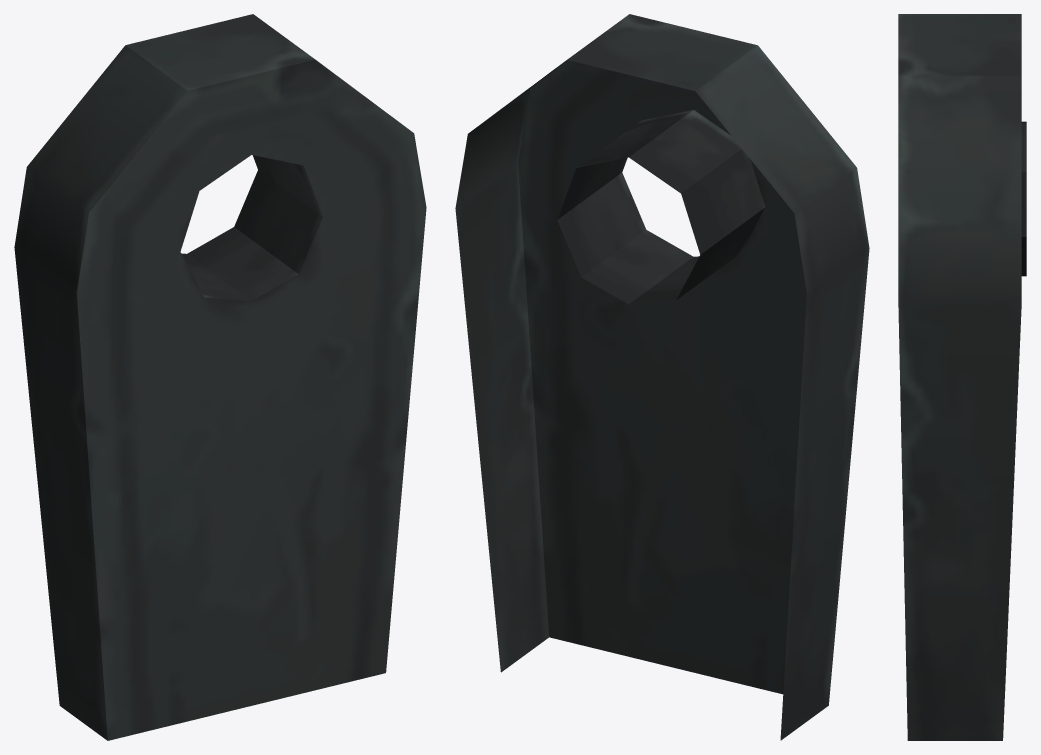
The model's file is yw_shanlin_tombstone_22.FBX.
3 renders of one model, left to right at view 1: azimuth 30°, elevation 25°; view 2: azimuth 150°, elevation 25°; view 3: azimuth 270°, elevation 25°, orthographic.
Parts seen in each view (by area): view 1: yw_shanlin_tombstone_22; view 2: yw_shanlin_tombstone_22; view 3: yw_shanlin_tombstone_22.
Boxes of the visible parts, x1,y1,x2,y2 form: yw_shanlin_tombstone_22: (14, 14, 426, 740); yw_shanlin_tombstone_22: (455, 14, 869, 740); yw_shanlin_tombstone_22: (898, 14, 1026, 740).
Bounding box in the file's own units: 37.36 × 64.85 × 11.98.
